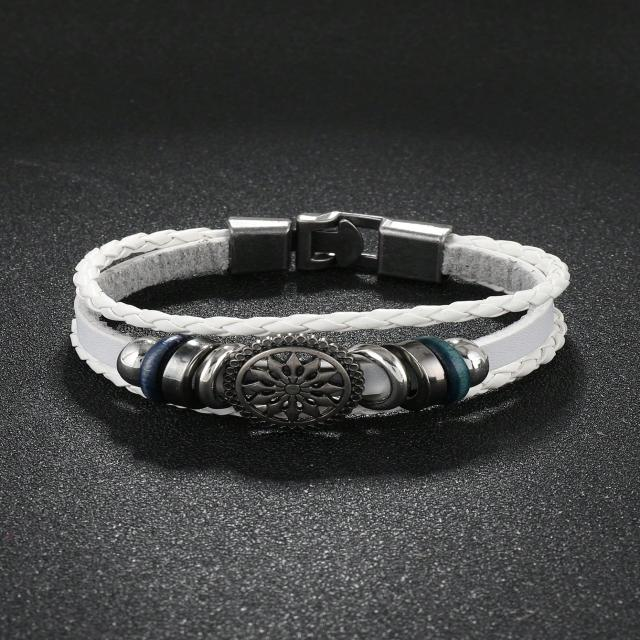bracelet: (16, 172, 640, 463)
